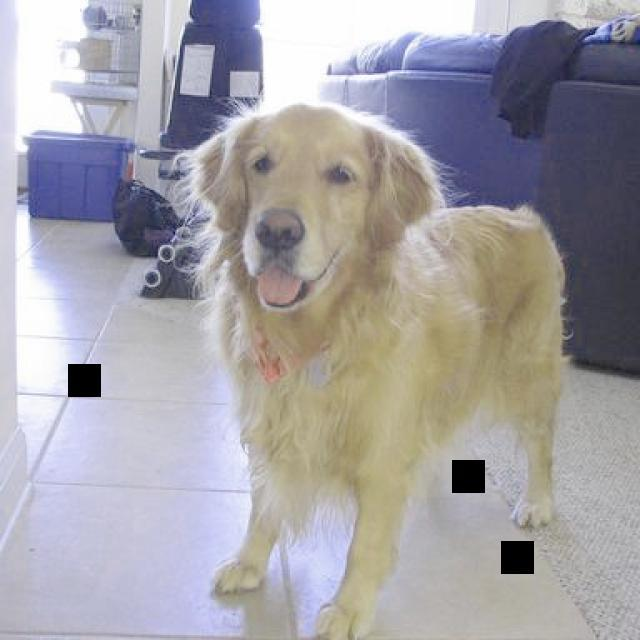adult_dog: (167, 98, 572, 640)
